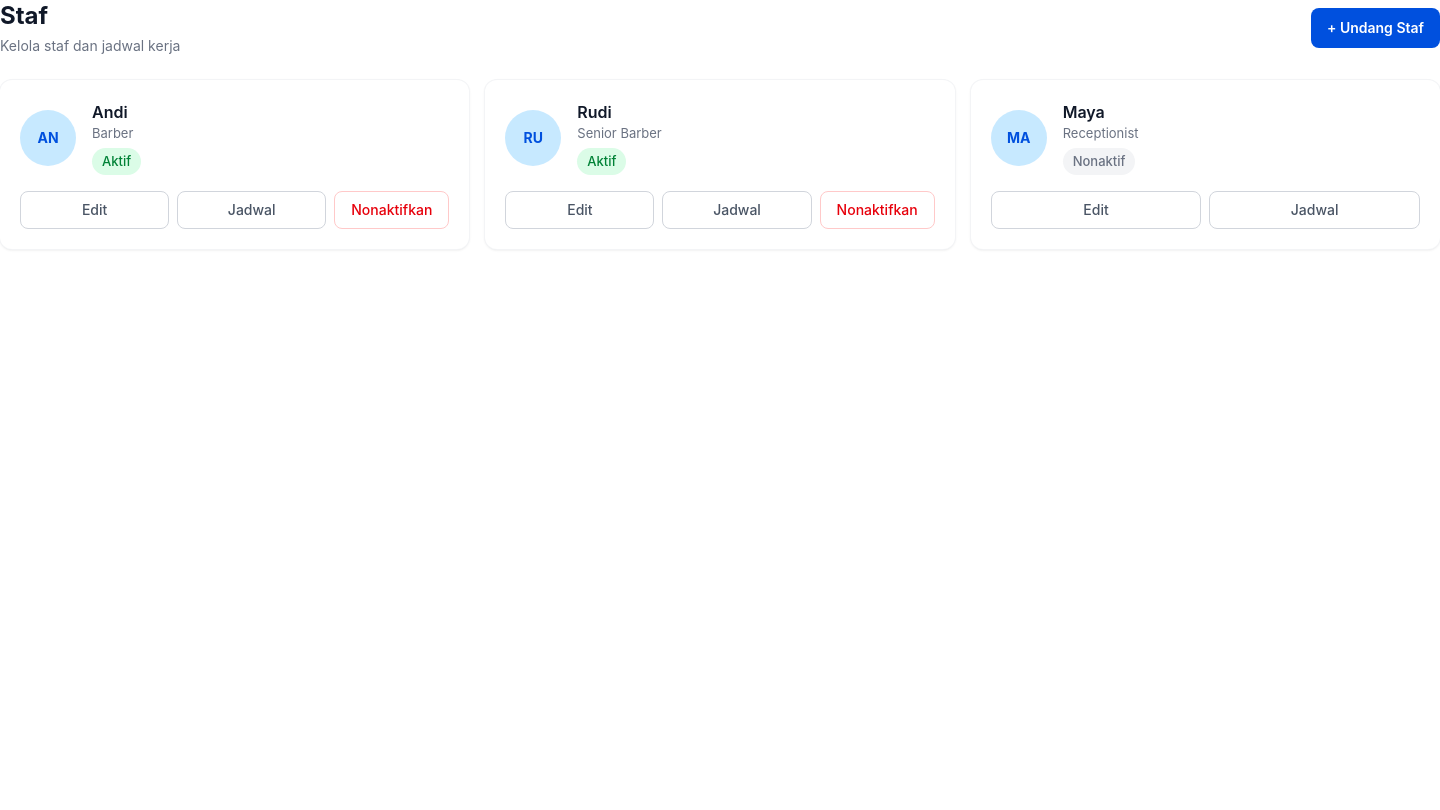
Scenario: StaffPage › closes invite modal when clicking Batal
Expected: the heading "Andi" is shown, [92,102,128,122]
Click the button "+ Undang Staf".
click(1376, 28)  # box [1311,8,1439,48]
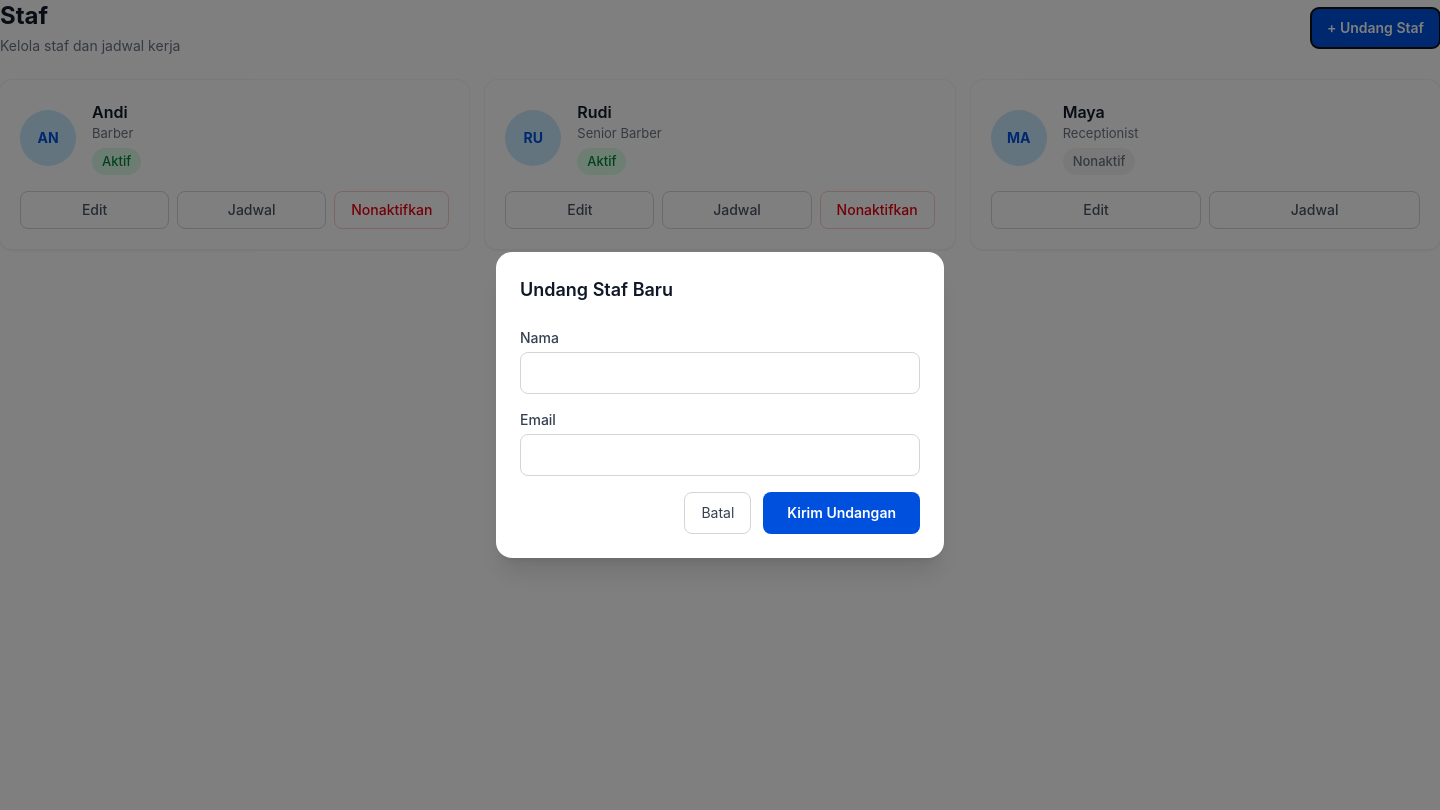
Now the heading "Undang Staf Baru" is shown, box [520,279,673,300]
Click the button "Batal".
click(718, 513)  # box [684,492,751,534]
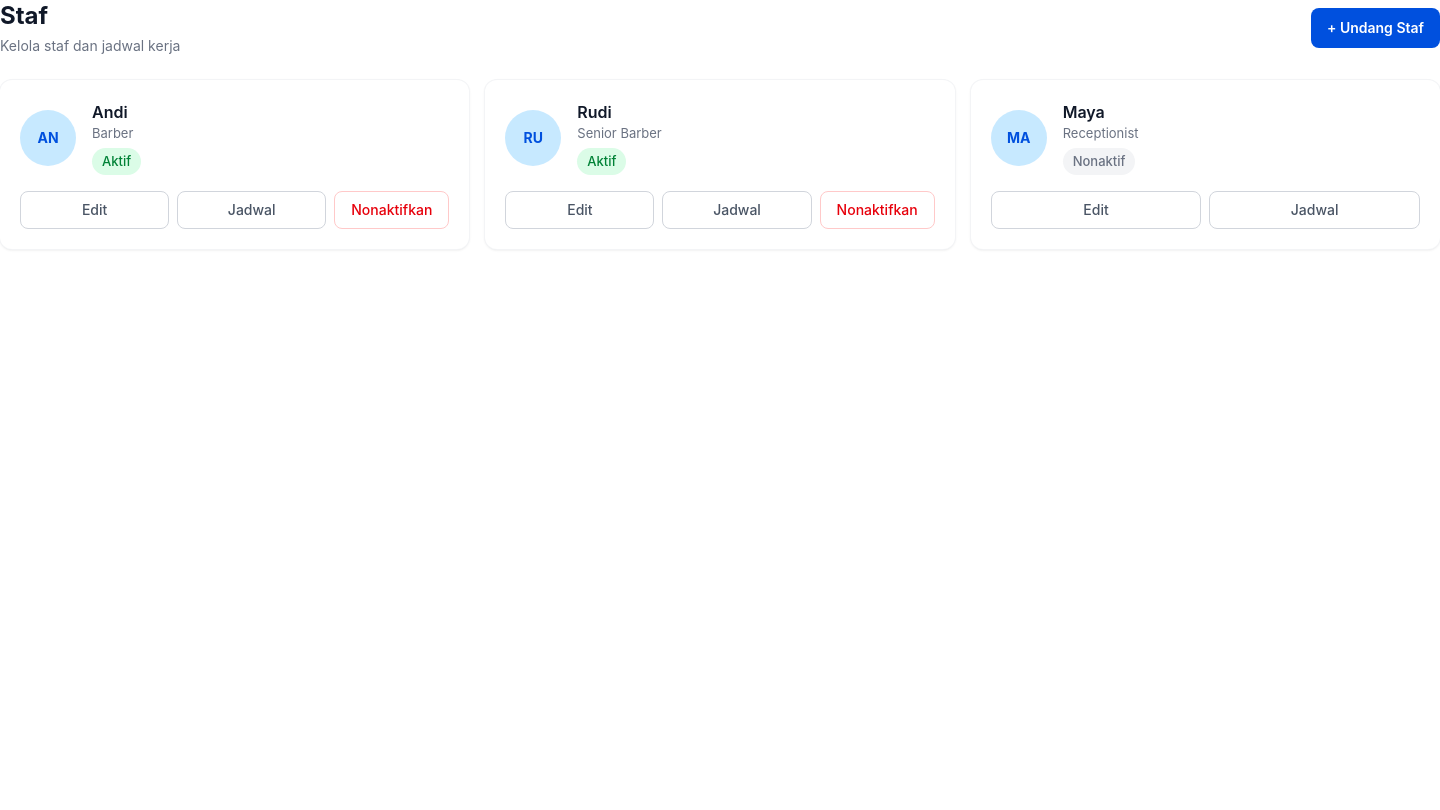
Now the heading "Undang Staf Baru" is gone
